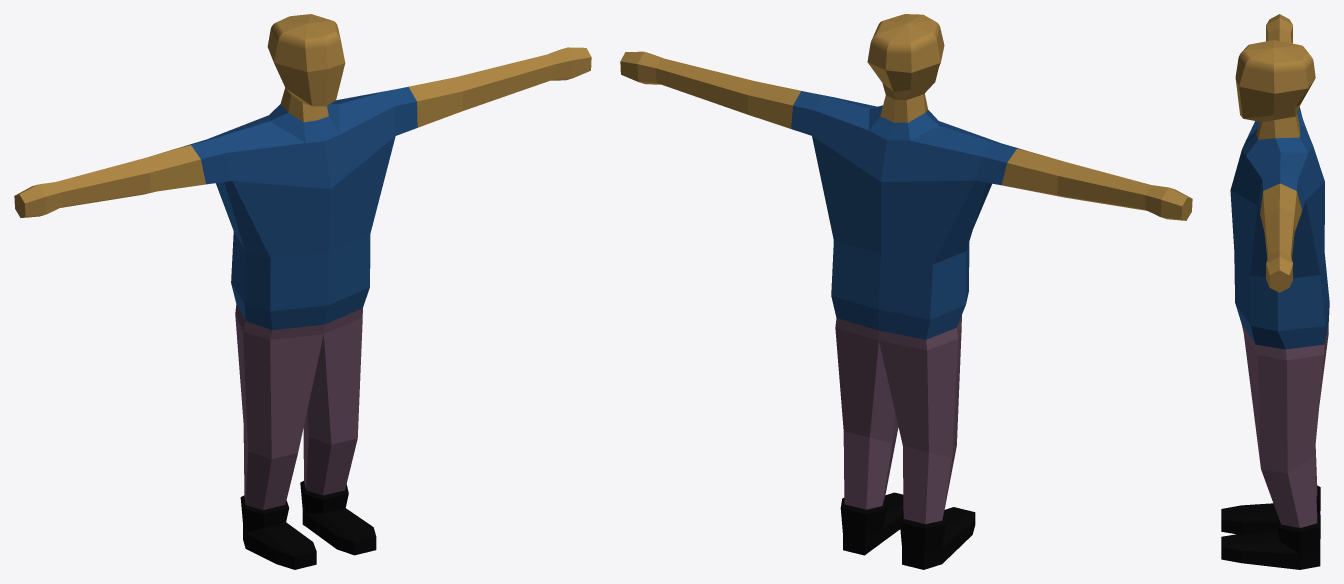
The model's file is character_3.glb.
3 renders of one model, left to right at view 1: azimuth 30°, elevation 25°; view 2: azimuth 150°, elevation 25°; view 3: azimuth 270°, elevation 25°, orthographic. The views are drawn at different scales.
Visible parts, largest first — view 1: Cube.004; view 2: Cube.004; view 3: Cube.004.
Part boxes in pixels (box(x1,y1,x2,y2)): Cube.004: box(14, 14, 591, 569); Cube.004: box(620, 14, 1192, 569); Cube.004: box(1221, 14, 1329, 569).
Size of the model in its own units: 8.72 by 7.7 by 1.52.
